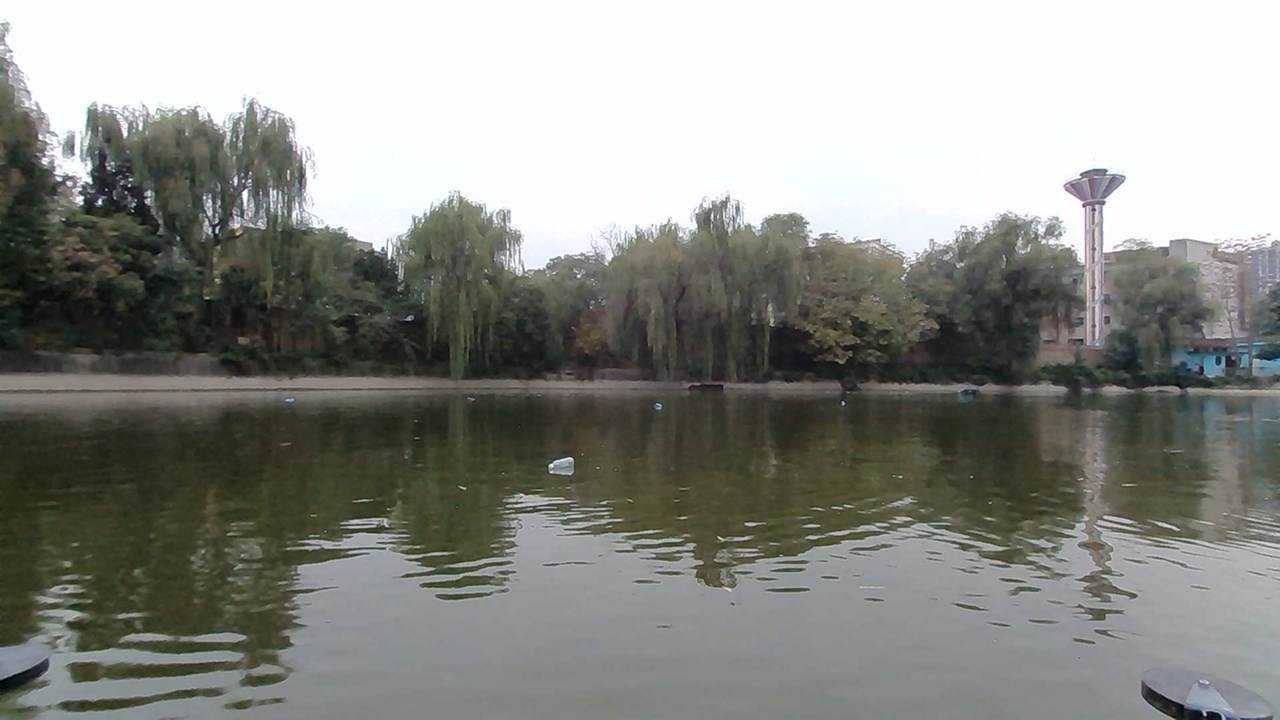bottle: (537, 451, 596, 480), (646, 400, 677, 418)
